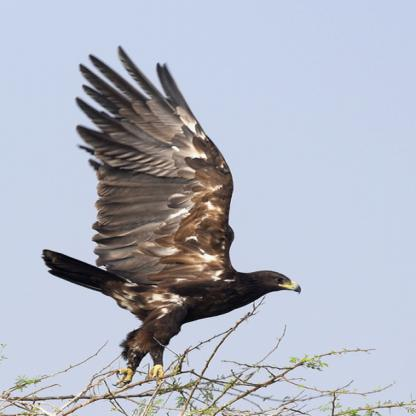Burung: (43, 45, 302, 383)
